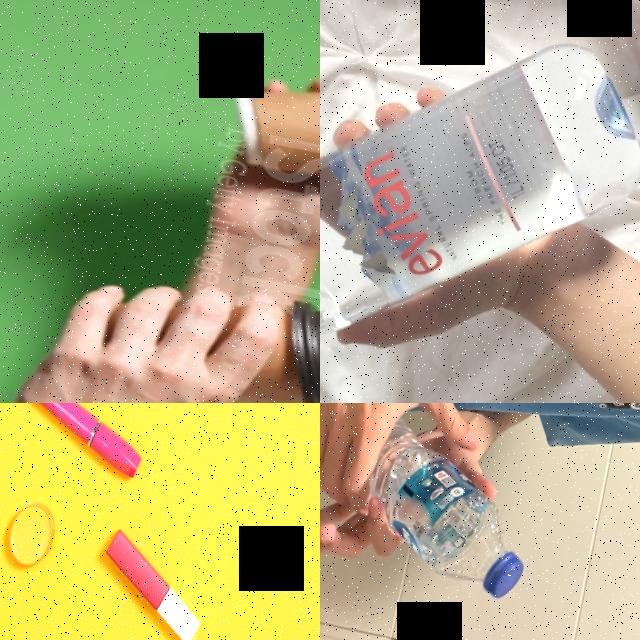bottle: (320, 0, 640, 403), (338, 417, 546, 602)
cup: (94, 263, 320, 403), (212, 47, 320, 212)
